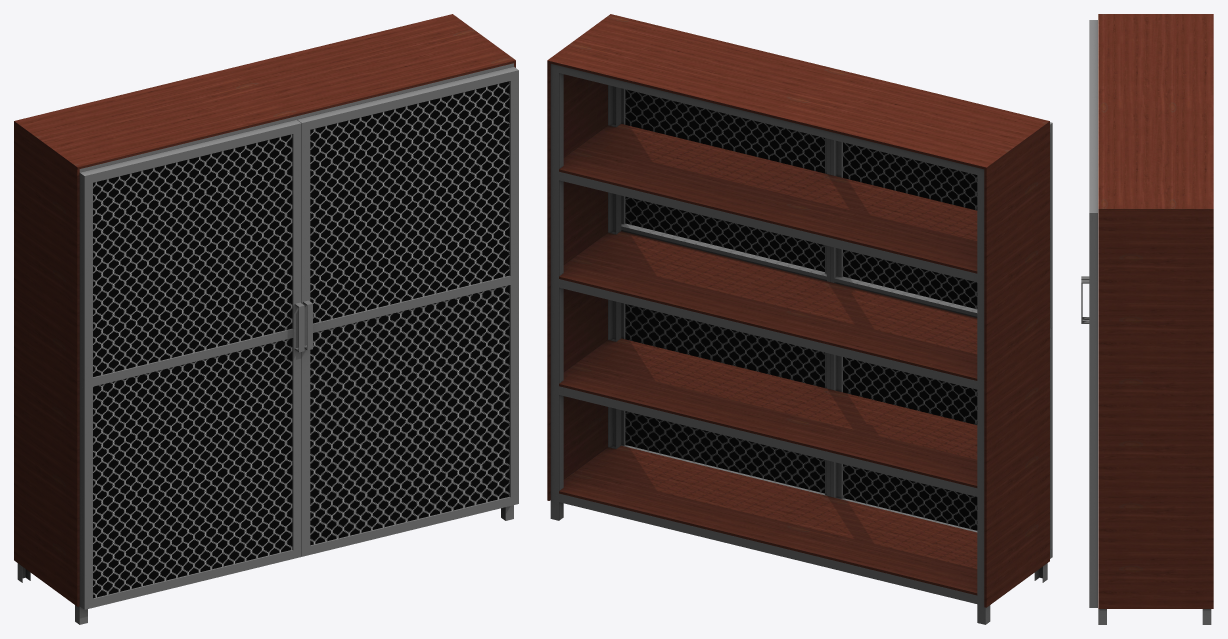
The model's file is Estante - INSIS.fbx.
The picture shows the model from 3 angles, left to right: view 1: azimuth 30°, elevation 25°; view 2: azimuth 150°, elevation 25°; view 3: azimuth 270°, elevation 25°; orthographic projection. The views are drawn at different scales.
Parts seen in each view (by area): view 1: Object007, Object006, Object008, Object012, Object004, Object005, Object010, Object001; view 2: Object004, Object002, Object012, Object003, Object008, Object006, Object010, Object009, Object001, Object007, Object005; view 3: Object001, Object004, Object005, Object006, Object009.
Part boxes in pixels (bbox=[...]): Object007: bbox=[93, 81, 509, 598]; Object006: bbox=[79, 67, 518, 609]; Object008: bbox=[93, 134, 292, 376]; Object012: bbox=[14, 123, 77, 606]; Object004: bbox=[14, 14, 515, 167]; Object005: bbox=[14, 60, 518, 609]; Object010: bbox=[79, 63, 513, 172]; Object001: bbox=[77, 62, 515, 606]; Object004: bbox=[547, 14, 1049, 595]; Object002: bbox=[559, 124, 977, 380]; Object012: bbox=[984, 123, 1049, 607]; Object003: bbox=[559, 232, 977, 487]; Object008: bbox=[843, 142, 977, 530]; Object006: bbox=[621, 122, 1052, 532]; Object010: bbox=[550, 171, 984, 605]; Object009: bbox=[550, 63, 1047, 624]; Object001: bbox=[547, 63, 607, 500]; Object007: bbox=[625, 89, 824, 271]; Object005: bbox=[621, 88, 1052, 558]; Object001: bbox=[1098, 211, 1213, 608]; Object004: bbox=[1098, 14, 1213, 208]; Object005: bbox=[1089, 209, 1213, 607]; Object006: bbox=[1081, 20, 1097, 323]; Object009: bbox=[1098, 609, 1211, 624].
Size of the model in its own units: 392 by 392 by 112.
